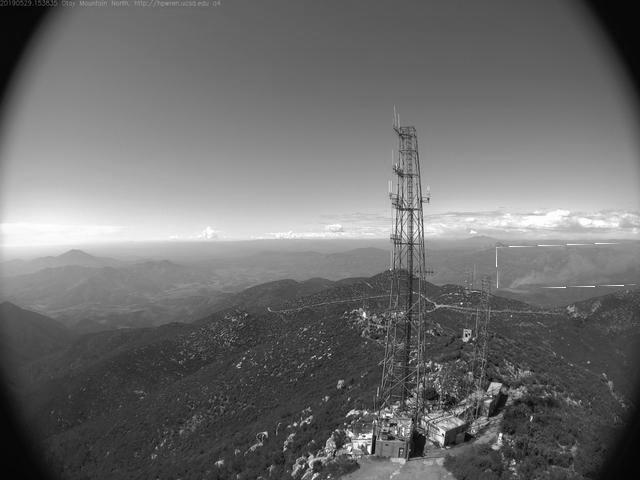smoke: (498, 245, 637, 289)
